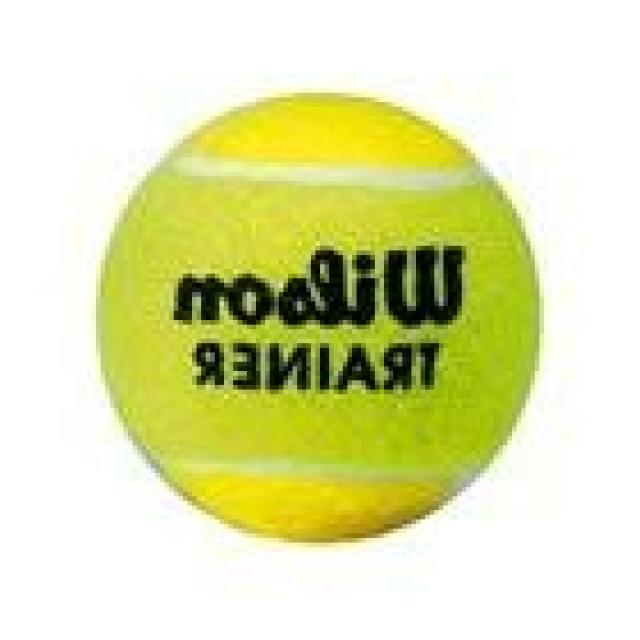Tennis Ball: (91, 93, 539, 547)
